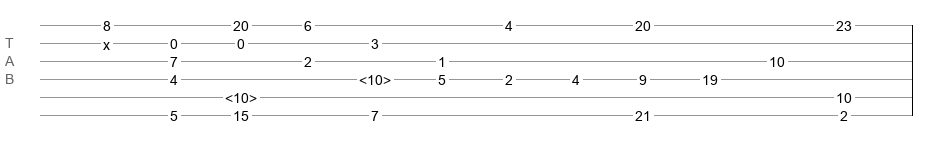0: (170, 36, 178, 46), (237, 36, 245, 46)
1: (438, 54, 446, 64)
10: (769, 54, 785, 64), (836, 90, 852, 100)
15: (233, 108, 249, 118)
19: (702, 72, 718, 82)
2: (304, 54, 312, 64), (505, 72, 513, 82), (840, 108, 848, 118)
20: (233, 18, 249, 28), (635, 18, 651, 28)
21: (635, 108, 651, 118)
23: (836, 18, 852, 28)
3: (371, 36, 379, 46)
4: (170, 72, 178, 82), (505, 18, 513, 28), (572, 72, 580, 82)
5: (170, 108, 178, 118), (438, 72, 446, 82)
6: (304, 18, 312, 28)
7: (170, 54, 178, 64), (371, 108, 379, 118)
8: (103, 18, 111, 28)
9: (639, 72, 647, 82)
harmonic: (225, 90, 257, 100), (359, 72, 391, 82)
x: (103, 37, 110, 45)
